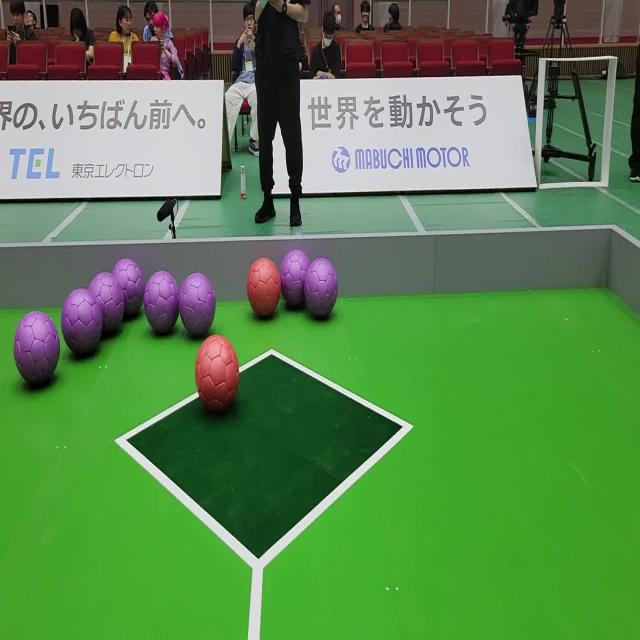purple_ball: (14, 308, 61, 388), (61, 290, 102, 360), (144, 270, 181, 334), (89, 271, 123, 337), (180, 273, 216, 335), (304, 260, 338, 320), (114, 262, 145, 314), (280, 250, 308, 307)
red_ball: (196, 335, 240, 409), (246, 256, 282, 320)
